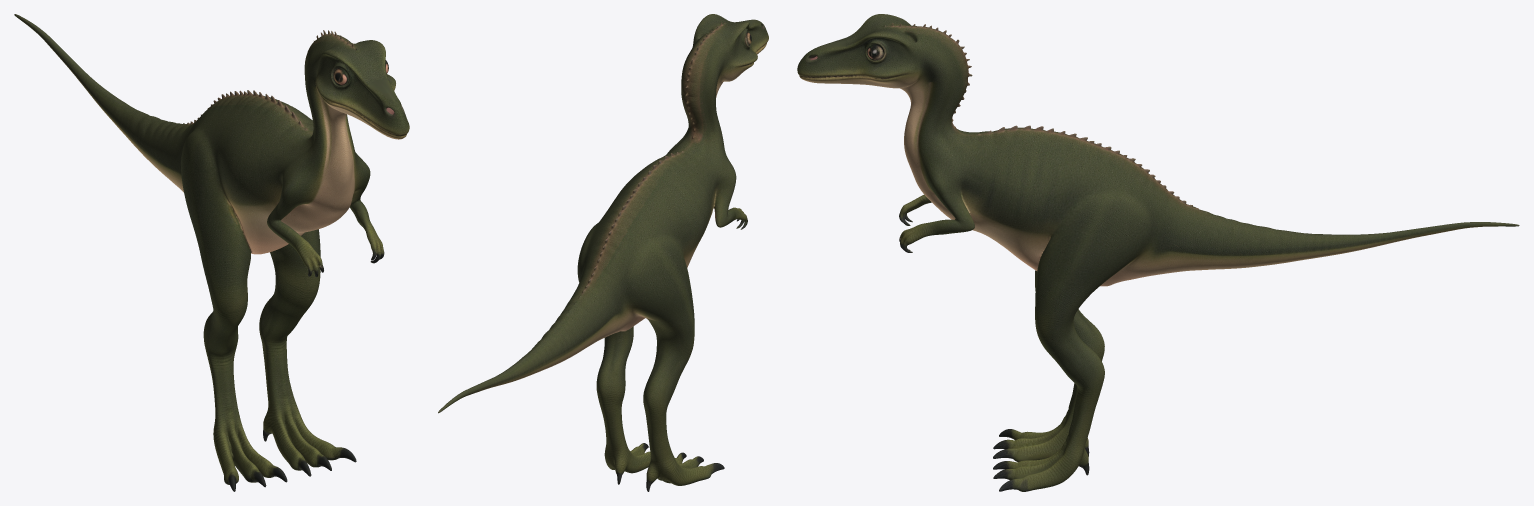
Rendered from Compy.glb.
The picture shows the model from 3 angles, left to right: view 1: azimuth 30°, elevation 25°; view 2: azimuth 150°, elevation 25°; view 3: azimuth 270°, elevation 25°; orthographic projection. The views are drawn at different scales.
Bounding box in the file's own units: 0.347 × 1.29 × 1.9.
1 material, 1 textured.
